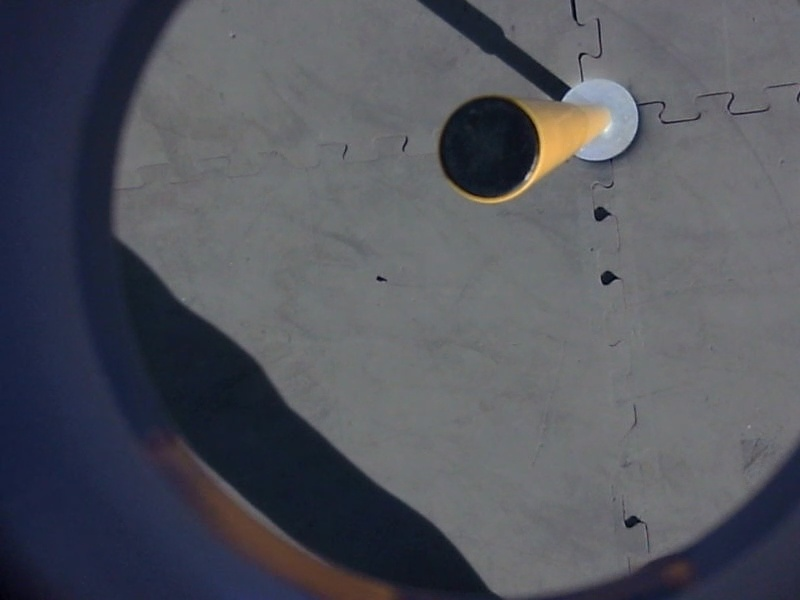tip: (431, 91, 546, 211)
